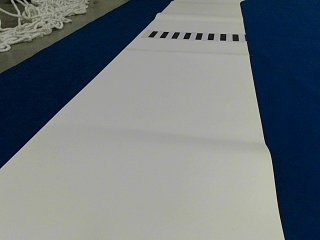crosswalk: (147, 30, 239, 41)
